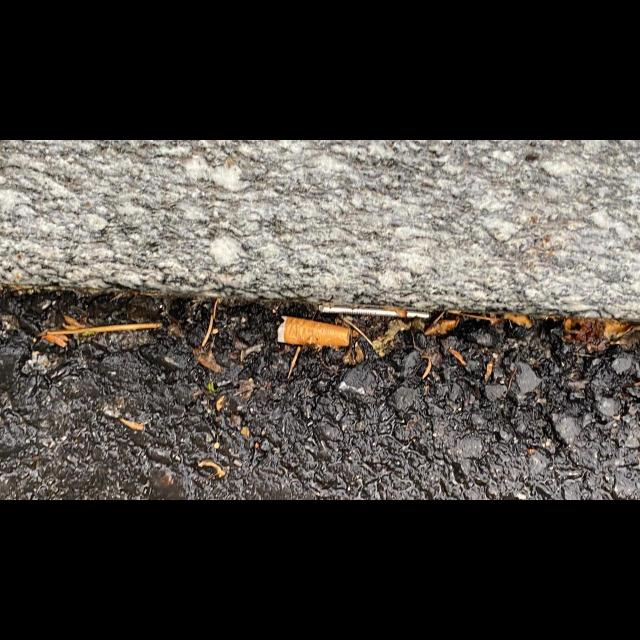cigarette: (276, 314, 352, 347)
